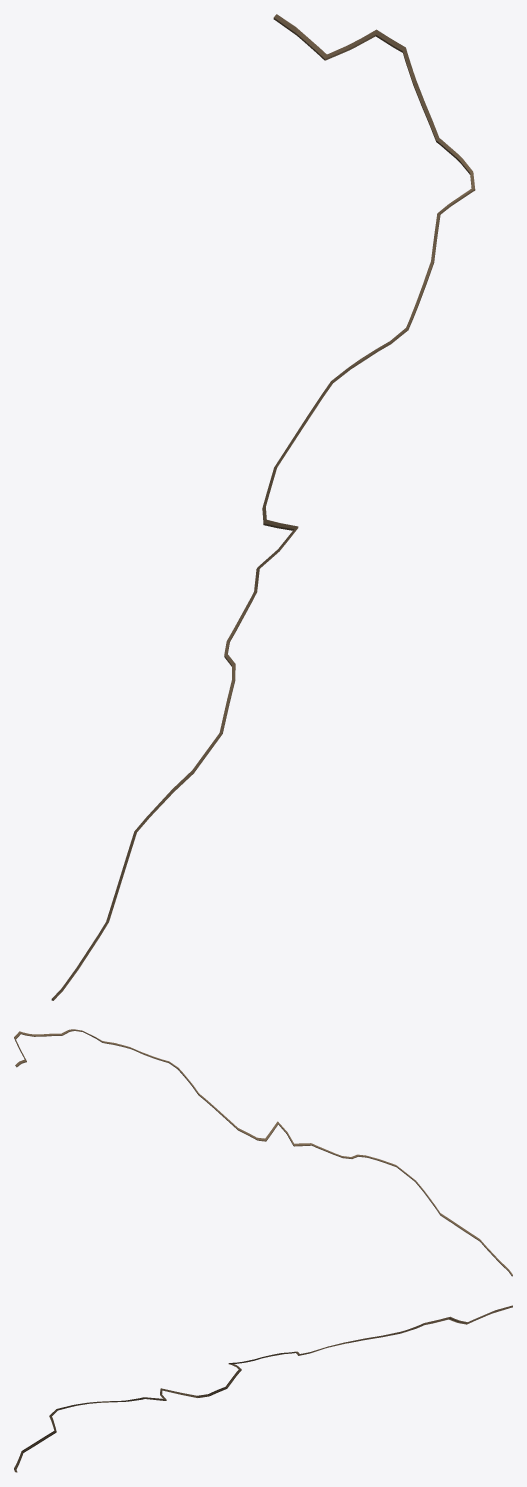
3 views of the same model, one above another, from view 1: azimuth 30°, elevation 25°; view 2: azimuth 150°, elevation 25°; view 3: azimuth 270°, elevation 25° (orthographic). The views are drawn at different scales.
Size of the model in its own units: 273 by 220 by 273.
